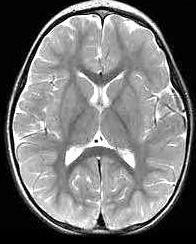Normal_Brain: (1, 1, 196, 244)
